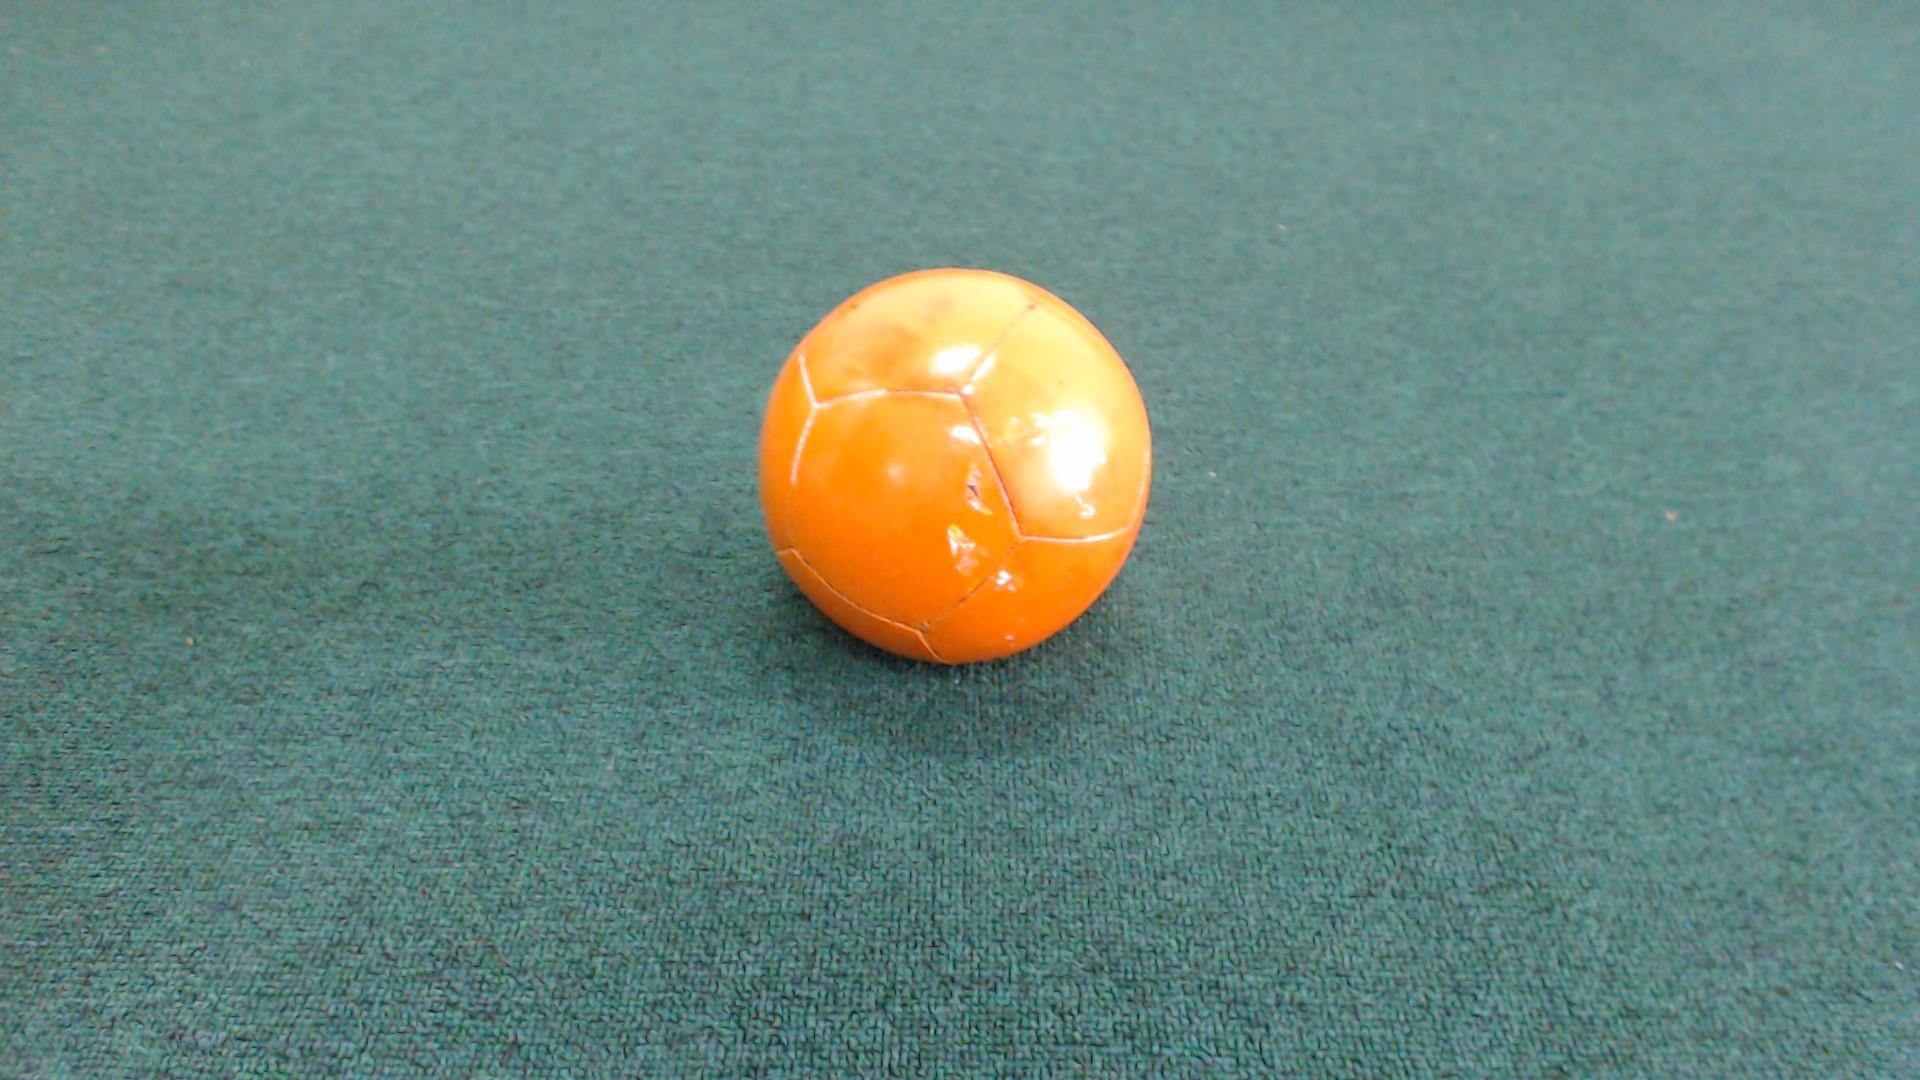bola: (735, 265, 1176, 698)
